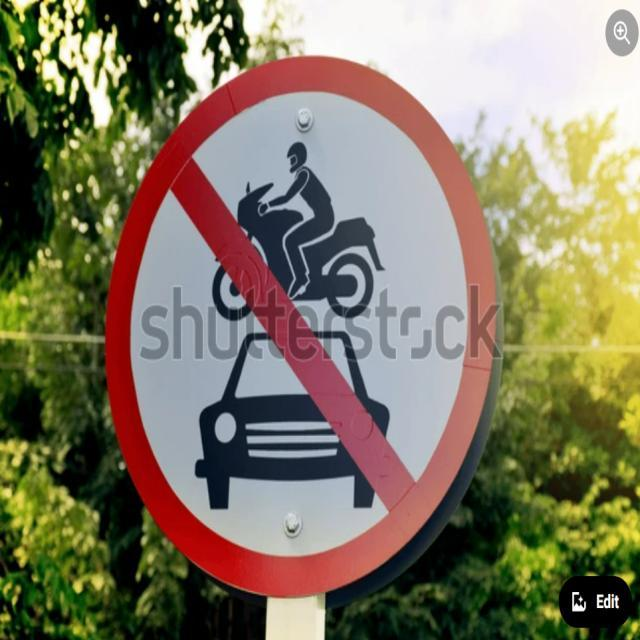all motor vehicle prohibited: (98, 40, 511, 604)
